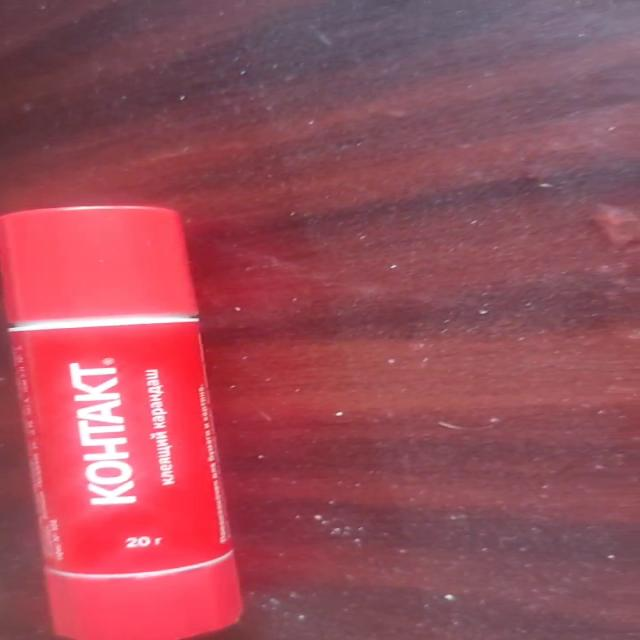glue: (1, 204, 243, 638)
